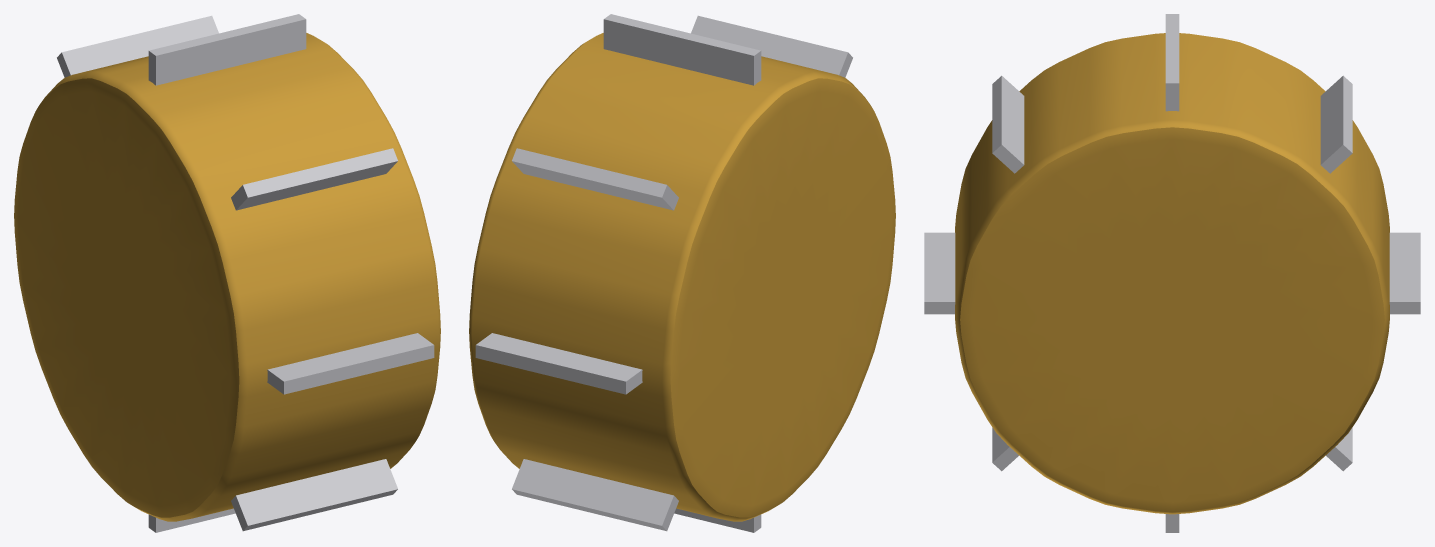
The model's file is Satelite_Modulo_Trasero.obj.
The picture shows the model from 3 angles, left to right: view 1: azimuth 30°, elevation 25°; view 2: azimuth 150°, elevation 25°; view 3: azimuth 270°, elevation 25°; orthographic projection. The views are drawn at different scales.
Visible parts, largest first — view 1: Satelite_Modulo_Trasero; view 2: Satelite_Modulo_Trasero; view 3: Satelite_Modulo_Trasero.
Part boxes in pixels (box(x1,y1,x2,y2)): Satelite_Modulo_Trasero: box(14, 14, 440, 532); Satelite_Modulo_Trasero: box(469, 14, 895, 532); Satelite_Modulo_Trasero: box(924, 14, 1420, 532).
Size of the model in its own units: 1.87 by 4.13 by 4.13.
